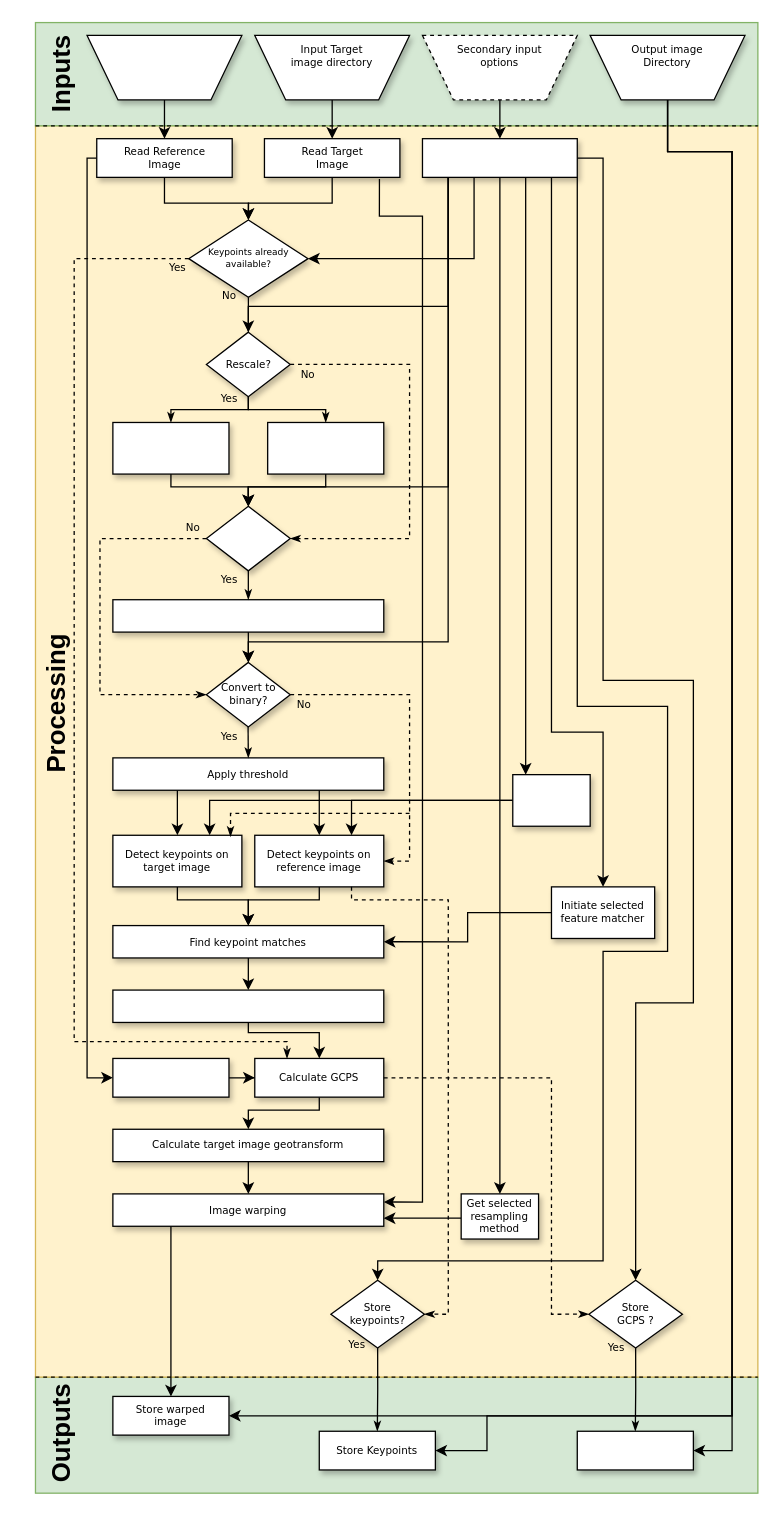
The diagram is 782 pixels wide and 1516 high, and some of its shapes have lost their labels. The centre of each missing label's shape, as x and y in pixels:
"Apply CLAHE?" belongs at point 249,540.
"Change reference Image resolution" belongs at point 171,449.
"Change target Image resolution" belongs at point 326,449.
"Get Geolocation" belongs at point 171,1079.
"Get keypoint pixel locations" belongs at point 249,1007.
"Histogram equalization" belongs at point 249,617.
"Initiate Selected detector" belongs at point 552,801.
"Input Reference image directory" belongs at point 165,69.
"Read secondary inputs" belongs at point 500,159.
"Store GCPS" belongs at point 636,1452.
